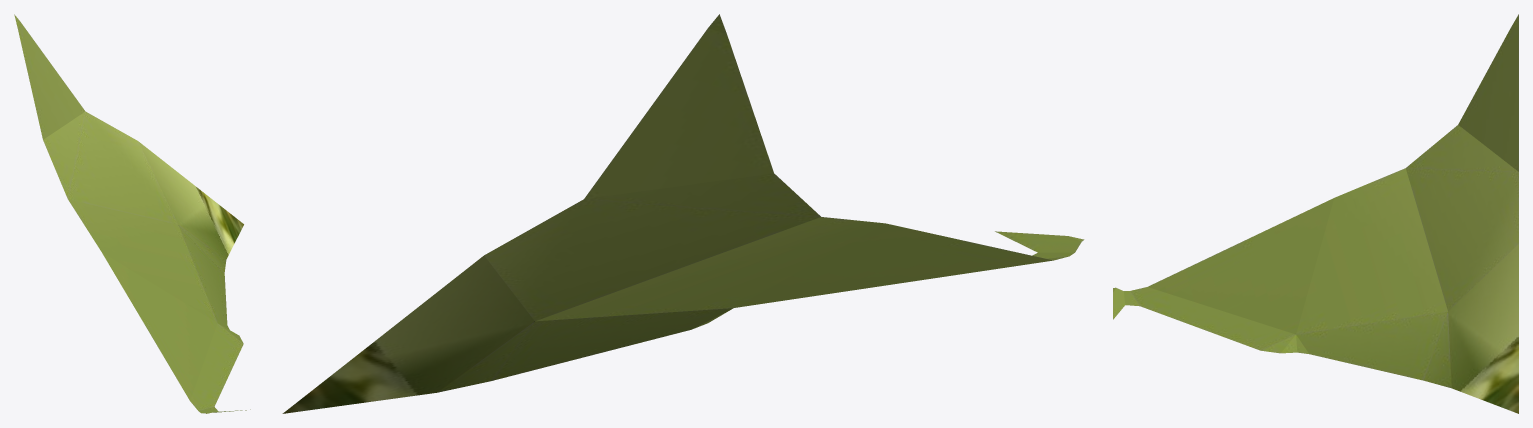
3 views of the same model, side by side, from view 1: azimuth 30°, elevation 25°; view 2: azimuth 150°, elevation 25°; view 3: azimuth 270°, elevation 25° (orthographic). The views are drawn at different scales.
Size of the model in its own units: 1.16 by 1.28 by 1.67.
Materials: 2 (2 with a texture image).
